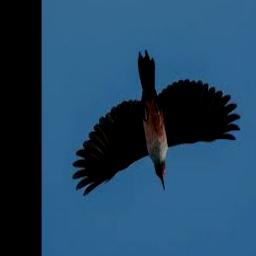Woodpecker: (73, 50, 240, 196)
